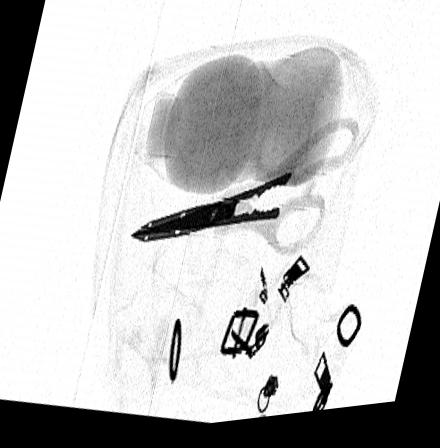Scissors: (129, 120, 361, 264)
